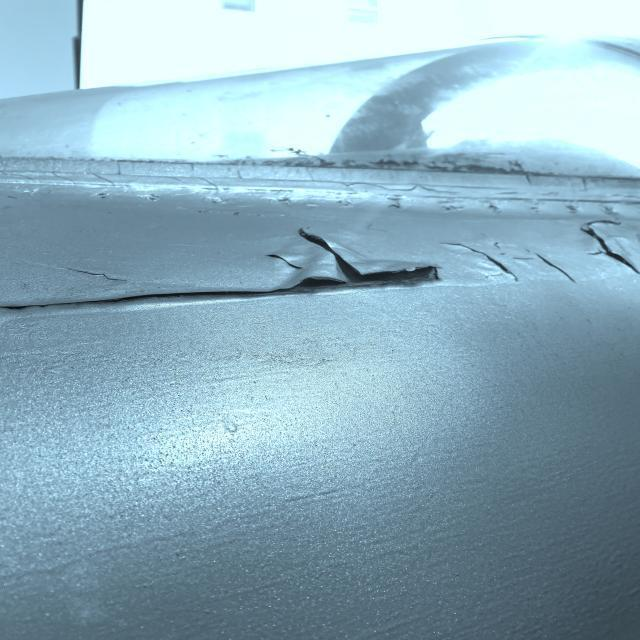crack: (438, 233, 575, 286), (65, 268, 141, 287), (263, 247, 307, 276)
